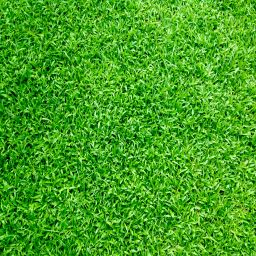grass: (1, 3, 252, 252)
